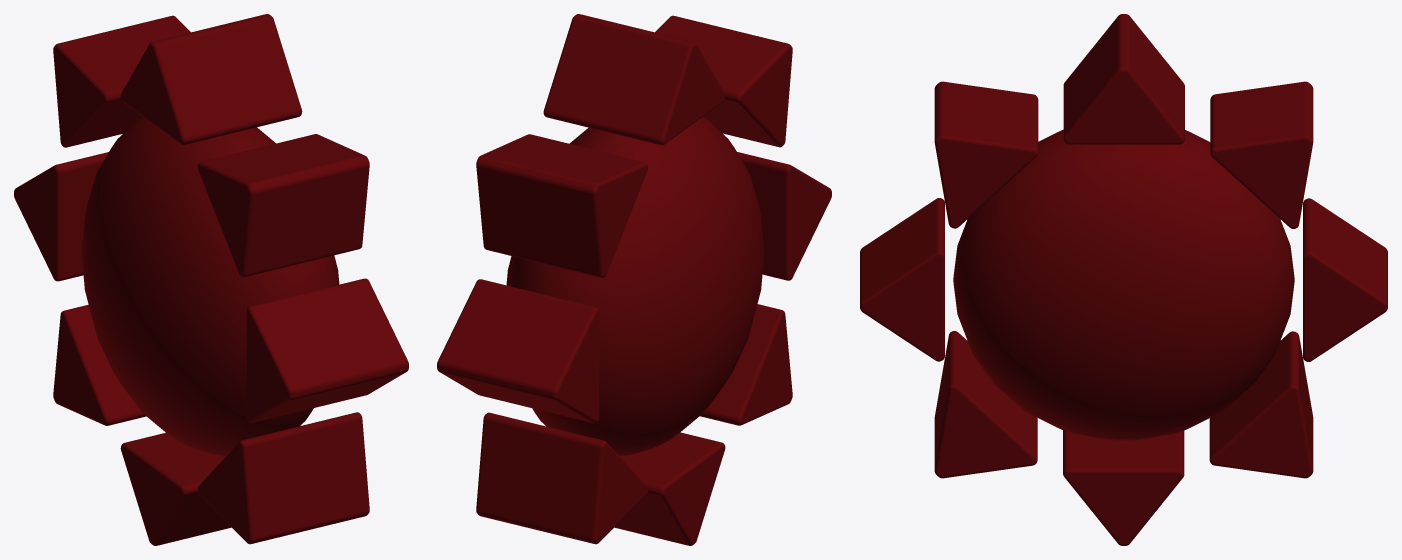
File: Item_Sun.fbx
3 renders of one model, left to right at view 1: azimuth 30°, elevation 25°; view 2: azimuth 150°, elevation 25°; view 3: azimuth 270°, elevation 25°, orthographic. The views are drawn at different scales.
Visible parts, largest first — view 1: Sphere; view 2: Sphere; view 3: Sphere.
Part boxes in pixels (x1,y1,x2,y2): Sphere: [14, 14, 408, 545]; Sphere: [437, 14, 831, 545]; Sphere: [860, 14, 1387, 545].
Size of the model in its own units: 56.42 by 145 by 145.
